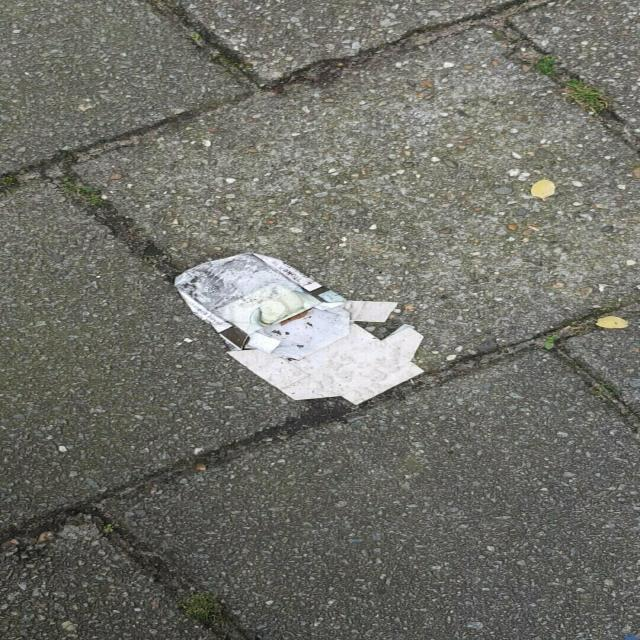Paper: (173, 249, 427, 406)
